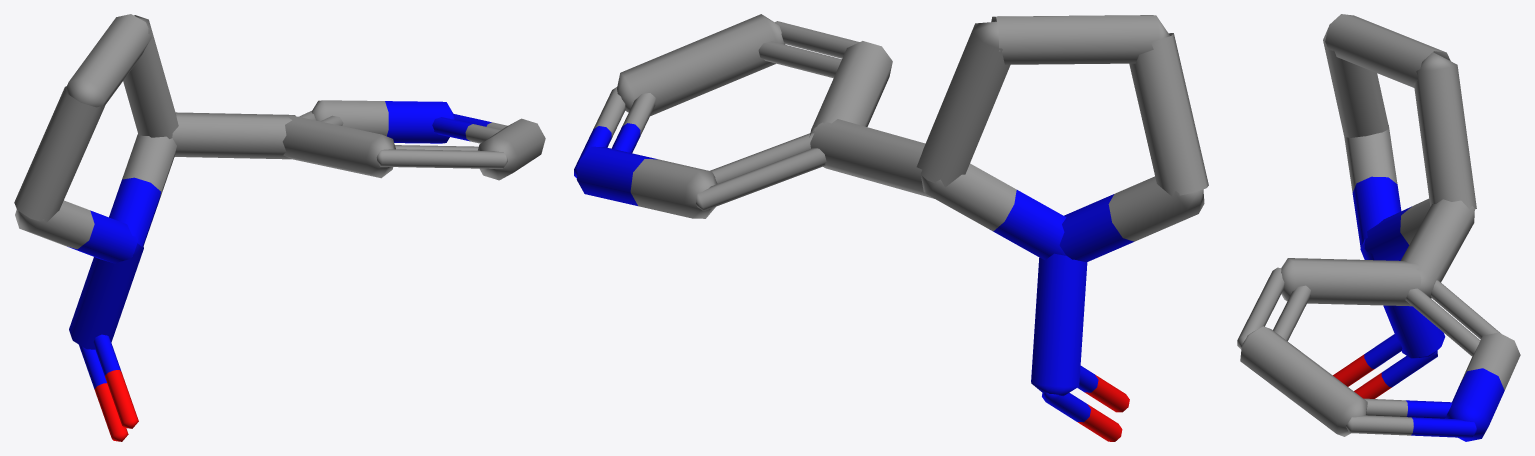
Rendered from nnitro.glb.
The picture shows the model from 3 angles, left to right: view 1: azimuth 30°, elevation 25°; view 2: azimuth 150°, elevation 25°; view 3: azimuth 270°, elevation 25°; orthographic projection. The views are drawn at different scales.
Visible parts, largest first — view 1: node-geom8; view 2: node-geom8; view 3: node-geom8.
Boxes of the visible parts, bbox=[...] form: node-geom8: bbox=[14, 14, 545, 441]; node-geom8: bbox=[574, 14, 1208, 441]; node-geom8: bbox=[1237, 14, 1520, 441].
Bounding box in the file's own units: 6.69 × 4.73 × 3.08.
